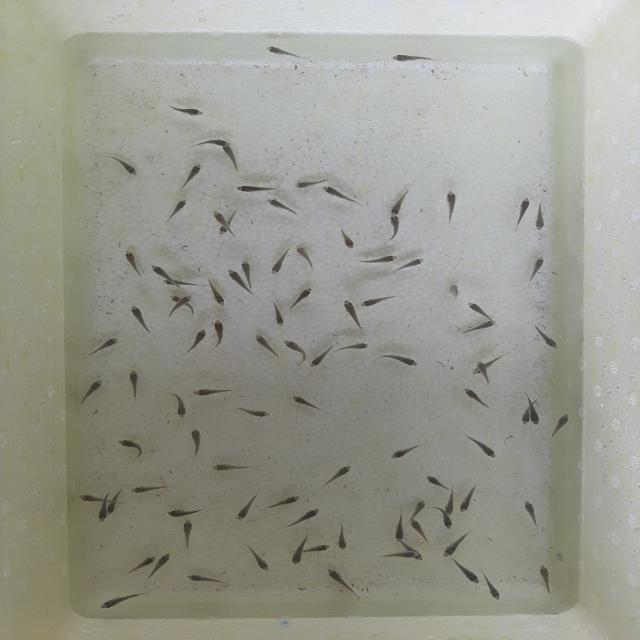fingerling: (324, 563, 365, 600), (72, 374, 110, 410), (101, 152, 145, 179), (94, 591, 150, 612), (263, 44, 314, 66), (159, 196, 192, 230), (460, 431, 498, 460), (315, 462, 354, 490), (527, 322, 562, 352), (82, 334, 121, 360), (320, 184, 364, 207), (288, 393, 330, 417), (519, 253, 549, 286), (460, 386, 495, 414), (438, 186, 462, 226), (113, 437, 149, 463), (386, 51, 441, 68), (177, 161, 205, 194), (126, 302, 154, 335), (185, 424, 207, 466), (162, 386, 189, 420), (536, 560, 558, 601), (388, 184, 416, 216), (208, 459, 264, 475), (268, 242, 294, 276), (288, 504, 323, 529), (511, 194, 535, 230), (384, 442, 427, 462), (282, 335, 309, 366), (245, 542, 272, 573), (480, 572, 507, 603), (163, 101, 209, 119), (233, 491, 261, 520), (308, 340, 335, 370), (287, 284, 313, 315), (372, 351, 419, 368), (264, 197, 302, 218), (124, 364, 145, 402), (182, 572, 234, 587), (519, 494, 540, 530), (185, 325, 209, 356), (190, 385, 243, 399), (205, 274, 228, 306), (252, 332, 279, 359), (264, 493, 304, 511), (177, 518, 199, 550), (230, 182, 280, 196), (458, 479, 478, 514), (221, 146, 244, 176), (359, 292, 402, 308), (441, 533, 467, 559), (120, 248, 142, 278), (231, 404, 275, 419), (340, 298, 360, 330), (550, 410, 571, 440), (530, 200, 549, 233), (338, 224, 360, 252), (289, 532, 307, 566), (458, 319, 498, 334), (454, 562, 479, 586), (332, 519, 350, 552), (295, 245, 315, 274), (352, 254, 400, 266), (465, 298, 491, 320), (128, 483, 172, 496), (408, 520, 431, 544), (268, 298, 287, 327), (210, 316, 226, 350), (398, 255, 428, 273), (162, 506, 206, 518), (393, 510, 408, 543), (444, 279, 464, 302), (287, 177, 322, 190), (337, 341, 372, 353), (146, 263, 171, 279), (162, 279, 206, 288), (388, 214, 402, 242), (155, 551, 173, 572), (424, 473, 446, 490), (309, 541, 333, 556), (188, 138, 230, 146), (74, 492, 102, 504), (409, 498, 427, 516), (444, 488, 456, 515), (380, 550, 420, 558), (210, 209, 227, 225), (226, 268, 242, 284), (240, 258, 252, 276), (95, 506, 106, 523), (442, 516, 455, 530), (530, 409, 540, 427), (520, 409, 530, 426), (140, 554, 156, 564), (106, 504, 119, 516), (476, 360, 488, 372), (181, 292, 193, 303), (167, 293, 180, 303), (216, 226, 228, 236)
